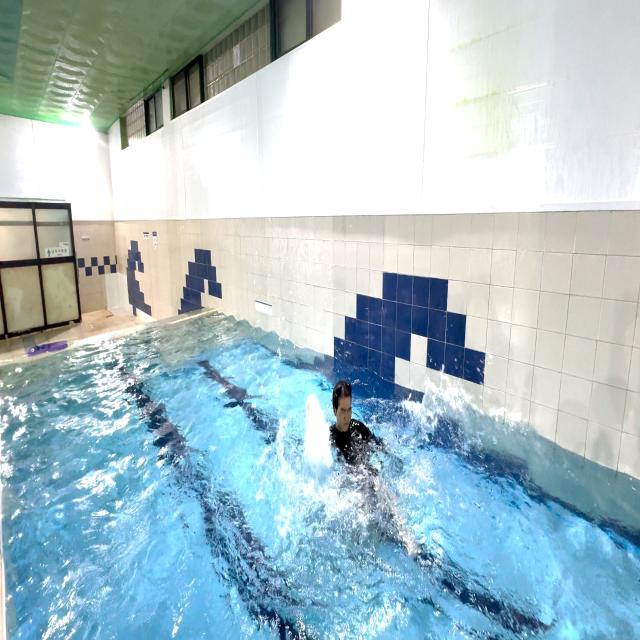Swimming: (294, 365, 432, 518)
